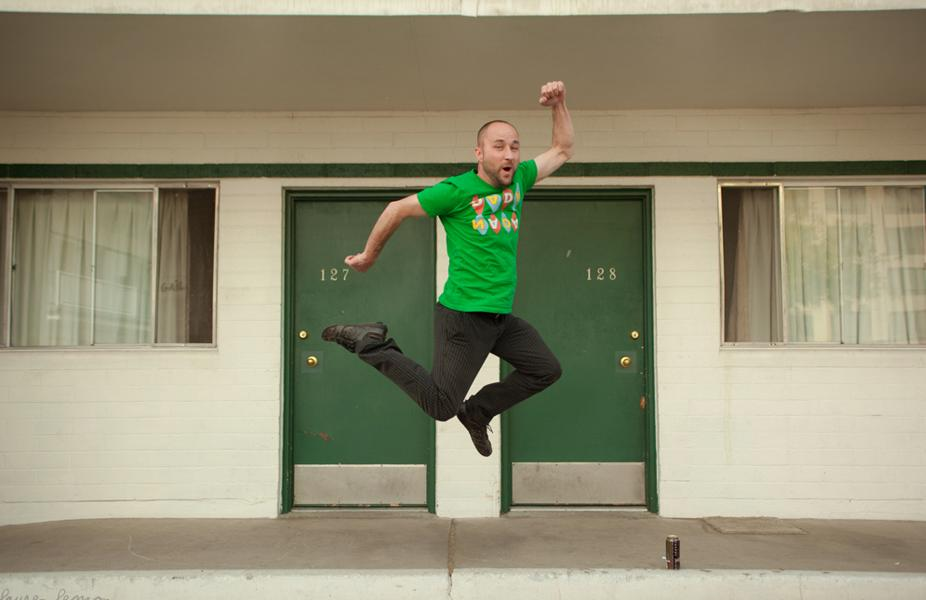person: (319, 77, 578, 454)
